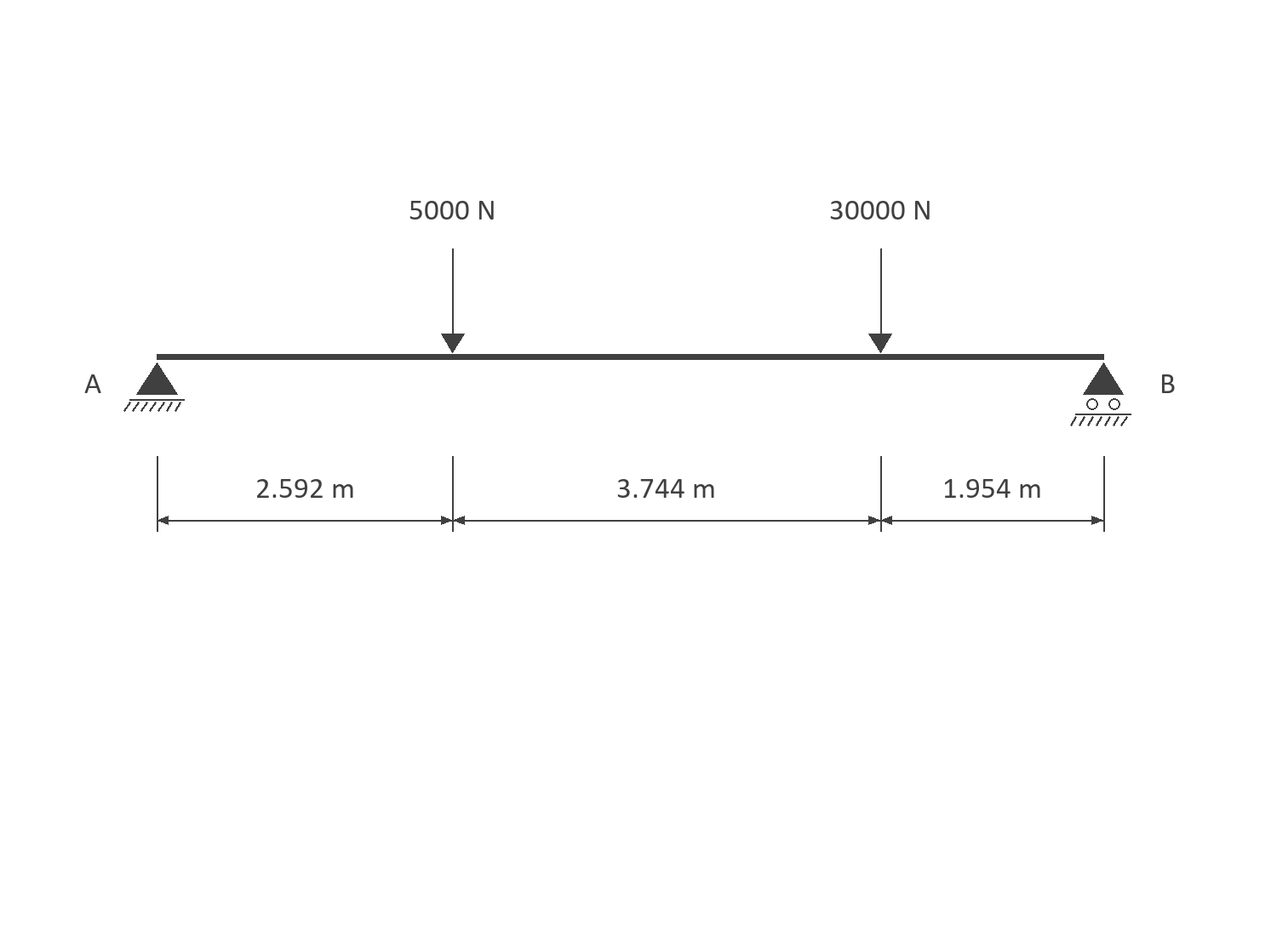pin_support: (123, 362, 185, 412)
point_load: (441, 248, 465, 353), (868, 248, 892, 353)
roller_support: (1070, 362, 1131, 426)
